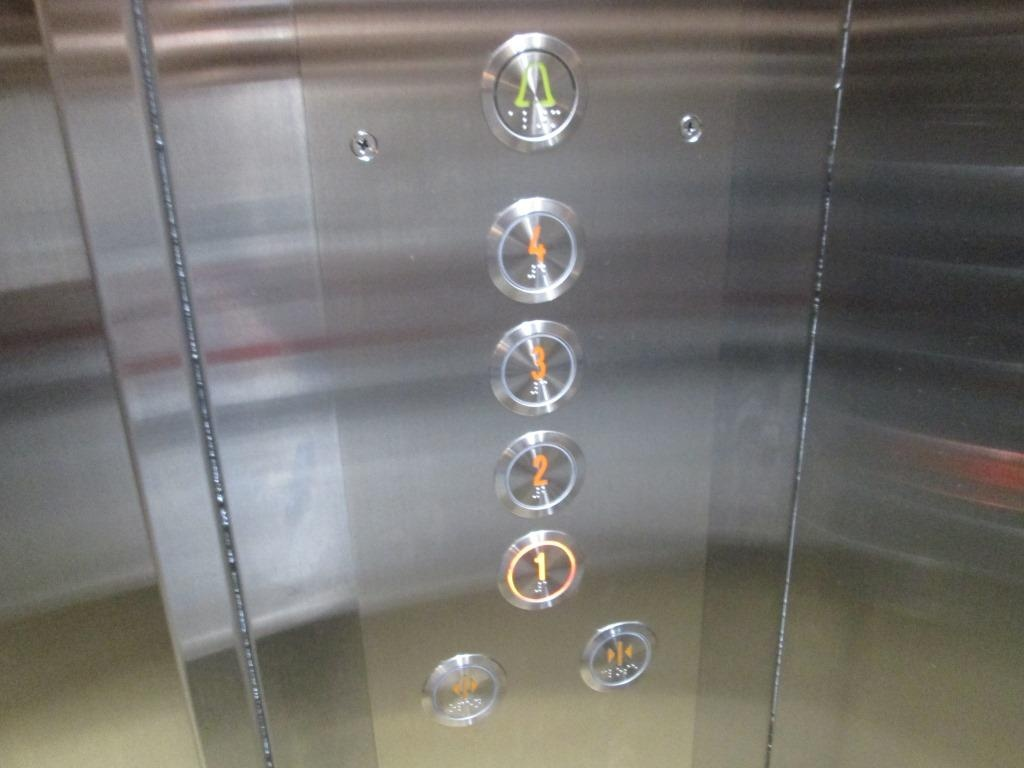1: (489, 520, 586, 620)
2: (486, 422, 593, 530)
3: (485, 315, 593, 420)
4: (478, 191, 594, 310)
alarm: (478, 27, 589, 158)
close: (576, 617, 657, 695)
open: (414, 645, 514, 735)
